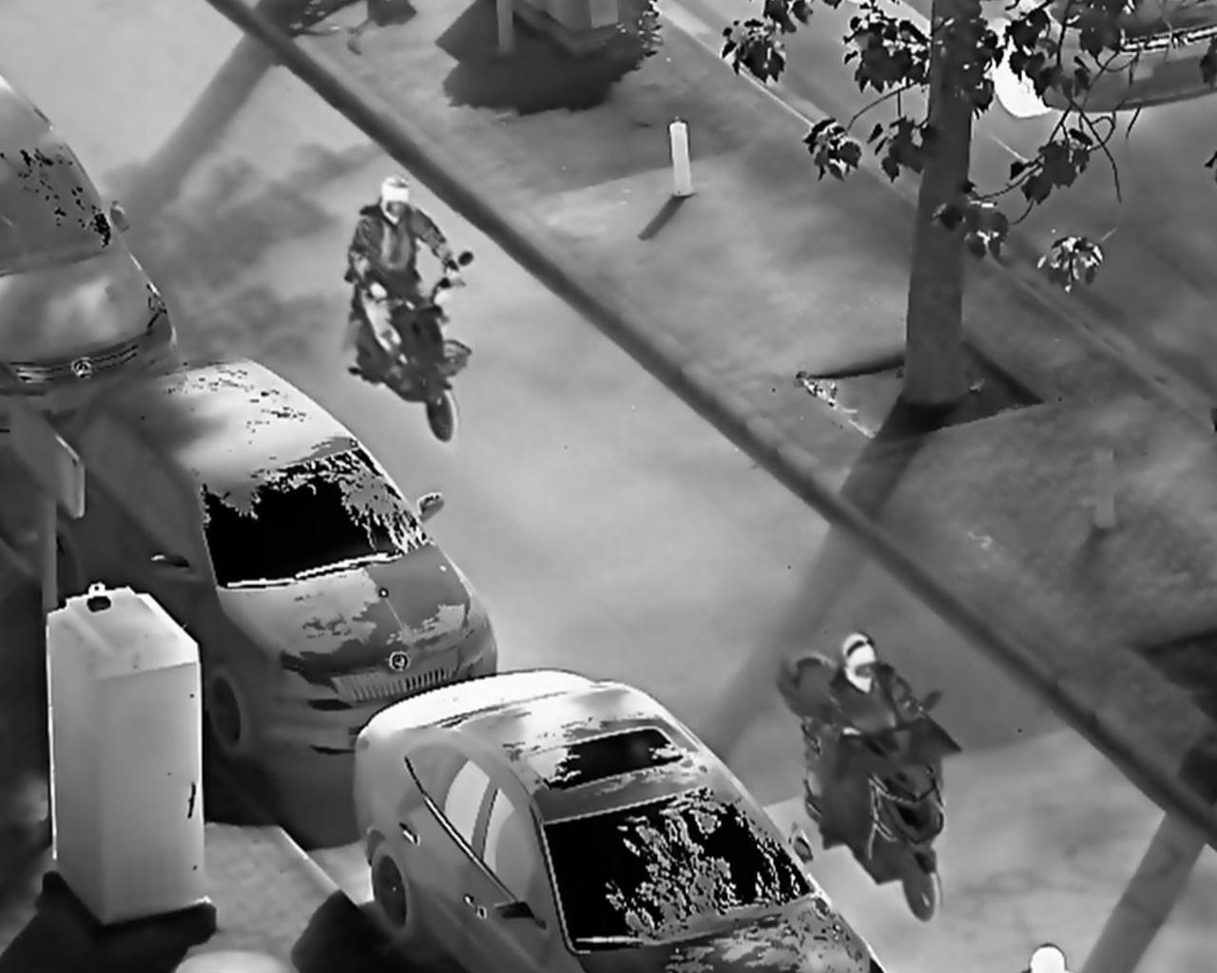person: (802, 622, 939, 820), (343, 173, 471, 379)
